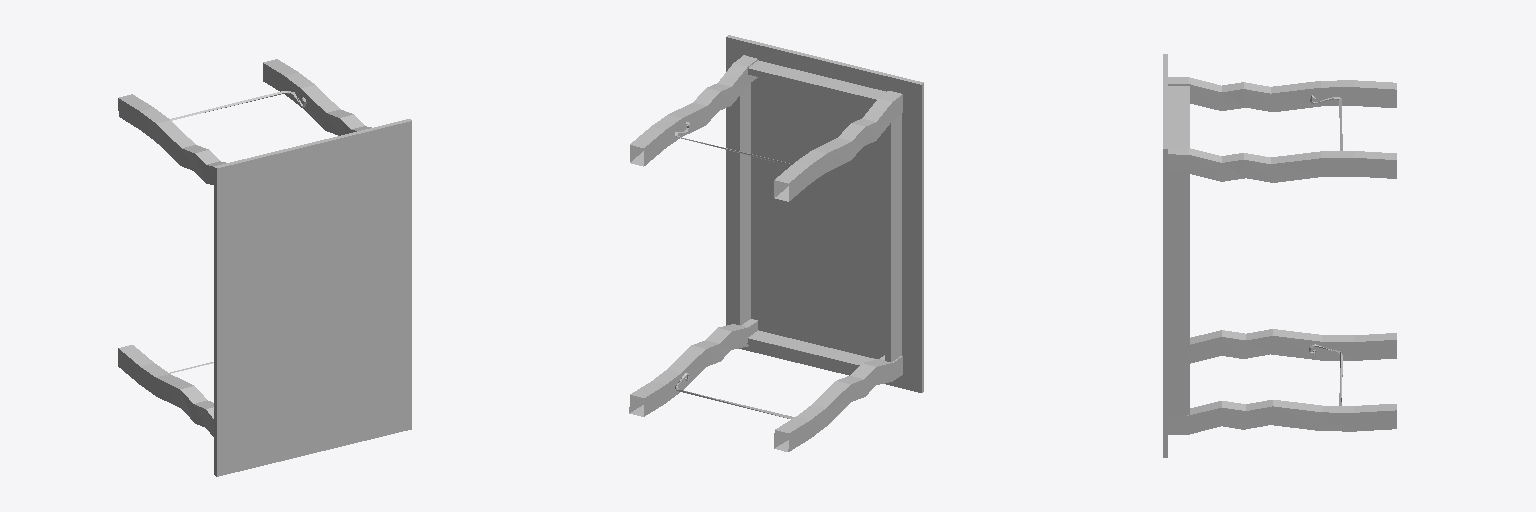
Rendered from table_antique.obj.
The picture shows the model from 3 angles: view 1: azimuth 30°, elevation 25°; view 2: azimuth 150°, elevation 25°; view 3: azimuth 270°, elevation 25°; orthographic projection.
Visible parts, largest first — view 1: table_antique; view 2: table_antique; view 3: table_antique.
Part boxes in pixels (x1,y1,x2,y2): table_antique: (118, 59, 411, 476); table_antique: (629, 35, 923, 451); table_antique: (1163, 54, 1396, 457).
Bounding box in the file's own units: 29.85 × 45 × 31.02.